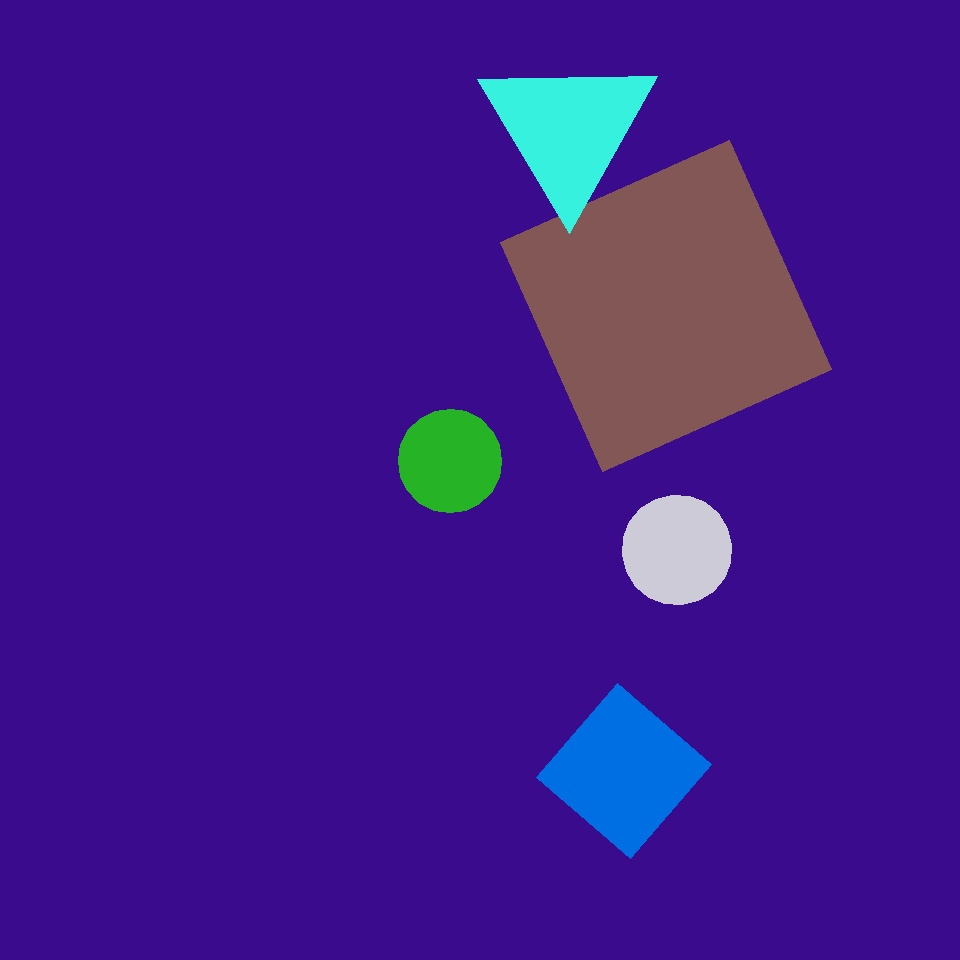circle: (478, 51, 658, 208)
square: (500, 140, 832, 471), (218, 588, 539, 909), (536, 684, 712, 858)
triangle: (684, 170, 875, 360), (638, 197, 817, 375), (622, 496, 732, 604), (398, 410, 501, 512), (214, 729, 308, 823)
